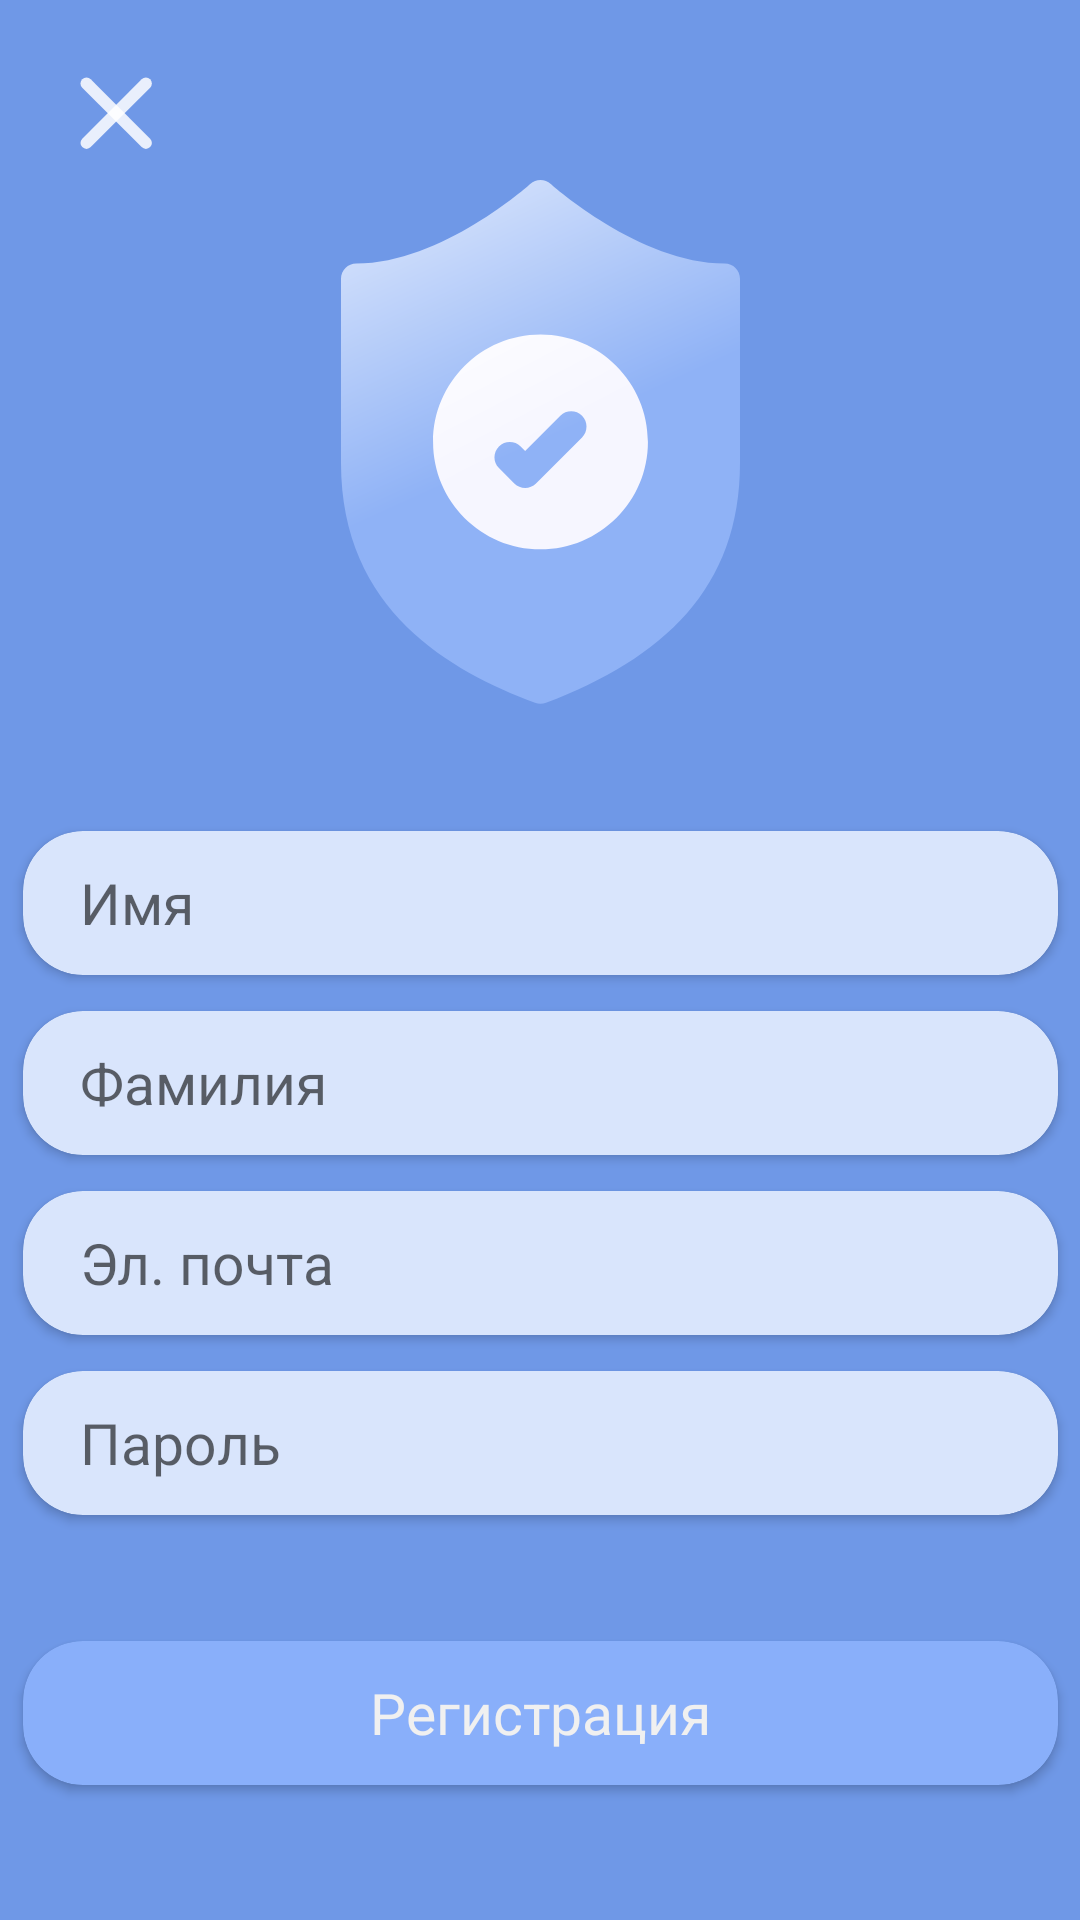

Icons on this 1080px x 1920px Android screen, each with its box as (left=x1, top=y1, right=x2, bottom=y2):
exitbutton: (left=80, top=77, right=152, bottom=149)
